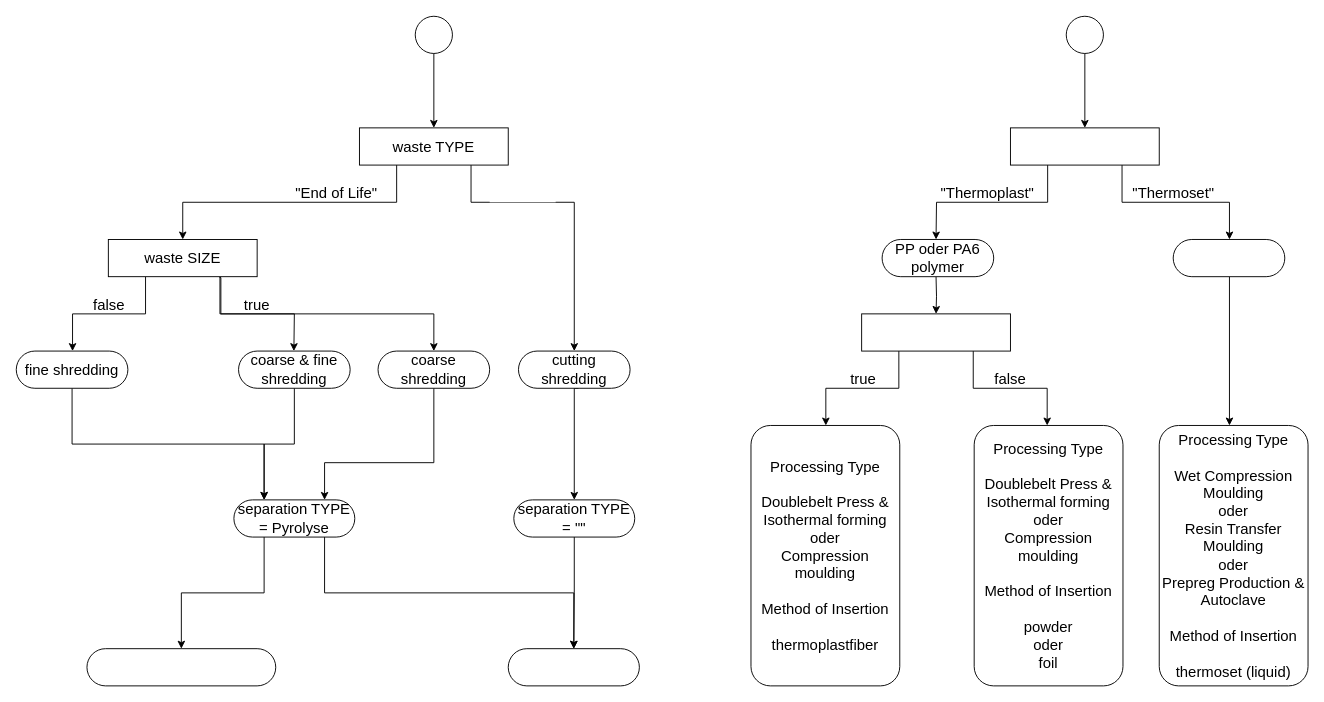
Some shapes in this 1324 by 702 pixel diagram are drawn without their labels. The box of each missing label's shape, as (x1, y1, x2, y2) in pixels:
"Cut-Off": (489, 183, 555, 202)
carding oder airLaying textile: (507, 648, 639, 686)
carding, wetLaying oder airLaying textile: (86, 648, 276, 686)
EP polymer: (1172, 239, 1285, 277)
matrix INSERTION: (861, 313, 1010, 351)
matrix TYPE: (1010, 127, 1159, 165)
